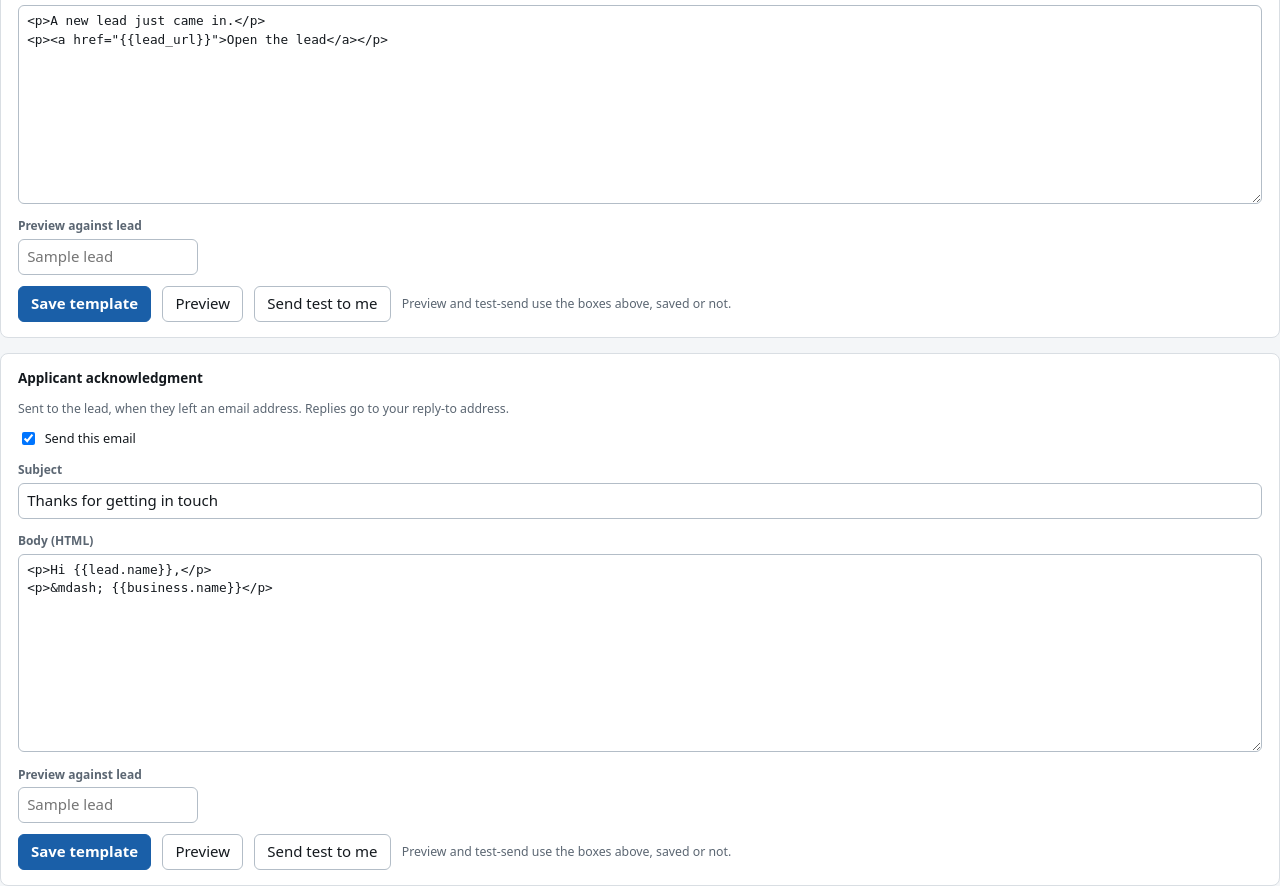
Test: EmailTemplates › says so when the named lead is gone
(page scrolled)
In the 2nd number field labelled "Preview against lead": (108, 805) [18,787,198,823], type "999"
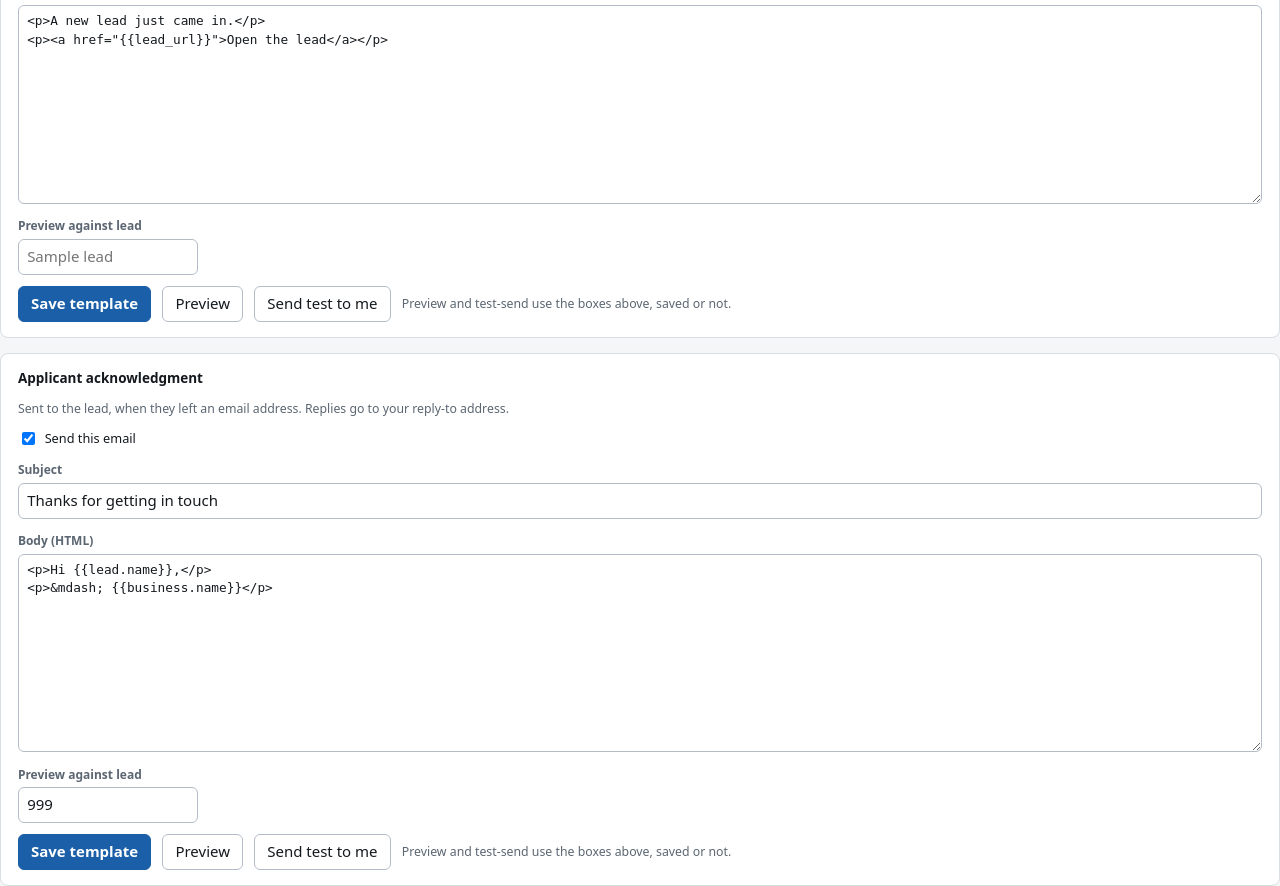
Click the 2nd button "Preview": click(203, 852) [162,834,243,870]
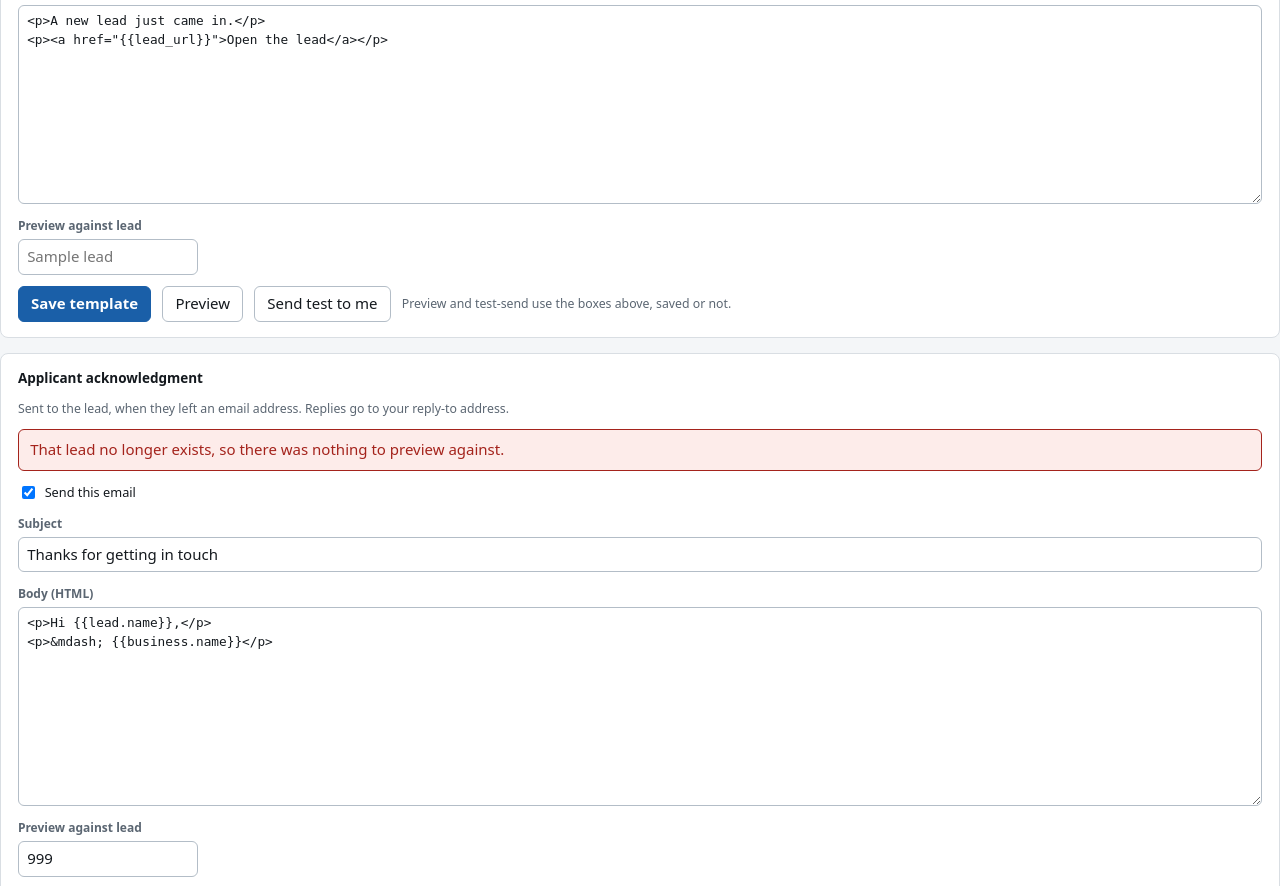
Expected: the text "That lead no longer exists, so there was nothing to preview against." is shown, [18,429,1262,471]
